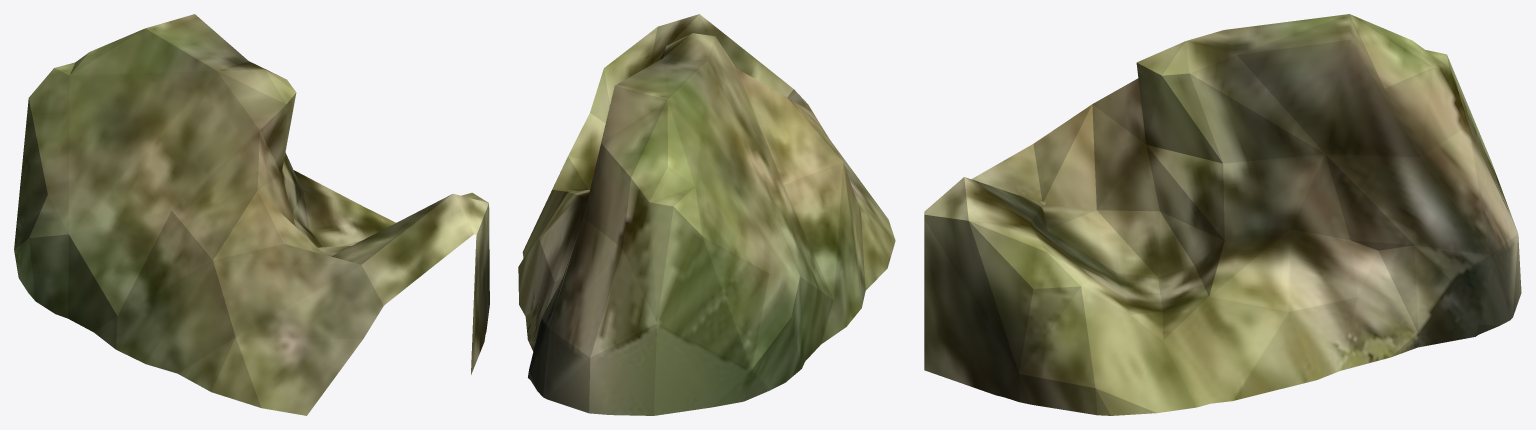
The picture shows the model from 3 angles, left to right: view 1: azimuth 30°, elevation 25°; view 2: azimuth 150°, elevation 25°; view 3: azimuth 270°, elevation 25°; orthographic projection. The views are drawn at different scales.
Bounding box in the file's own units: 1.09 × 0.759 × 1.46.
1 material, 1 textured.
